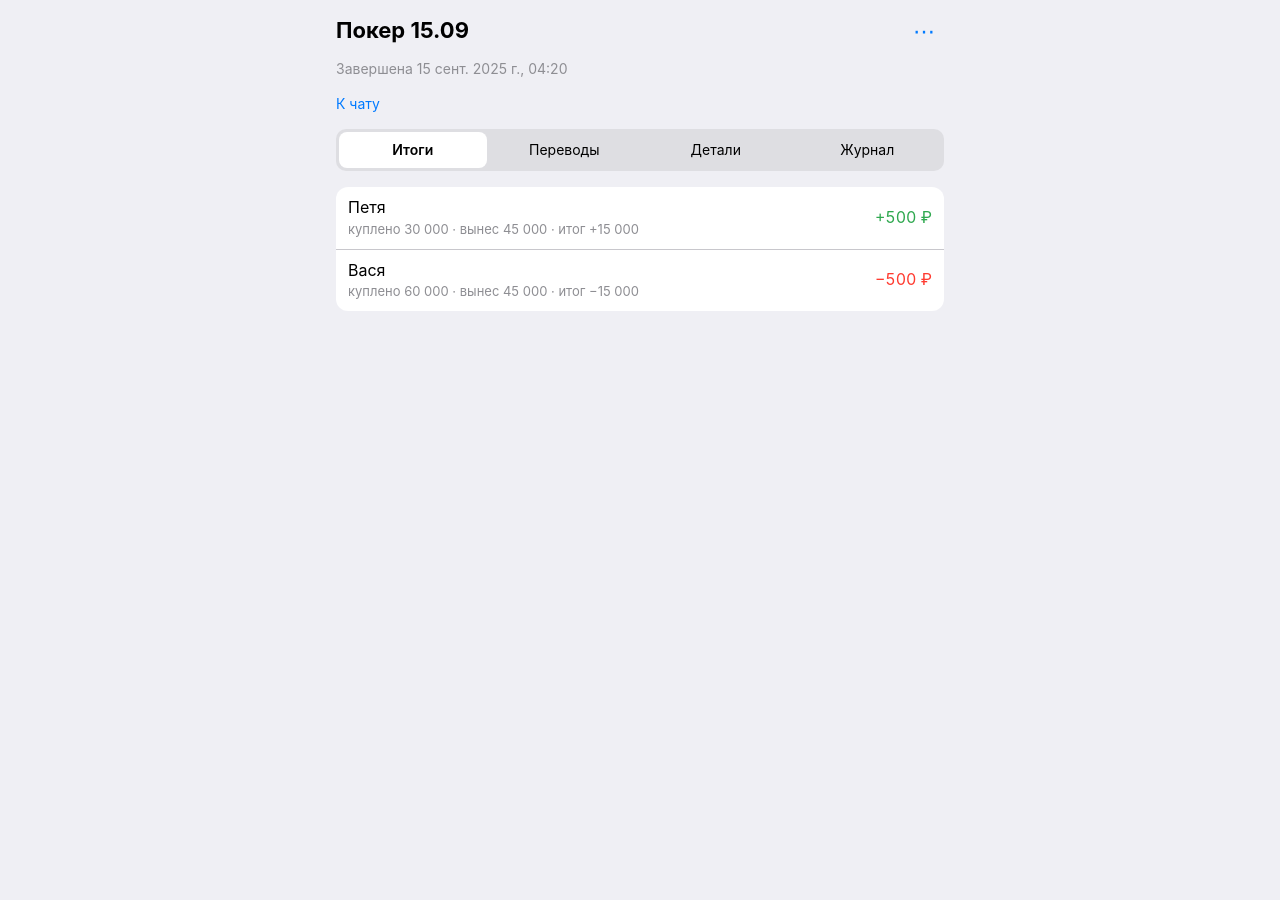
Test: finished game menu › deletes the game and goes to the chat
The image size is (1280, 900).
Step 1. Click the button named "Меню" → (924, 32), box [904, 12, 944, 52]
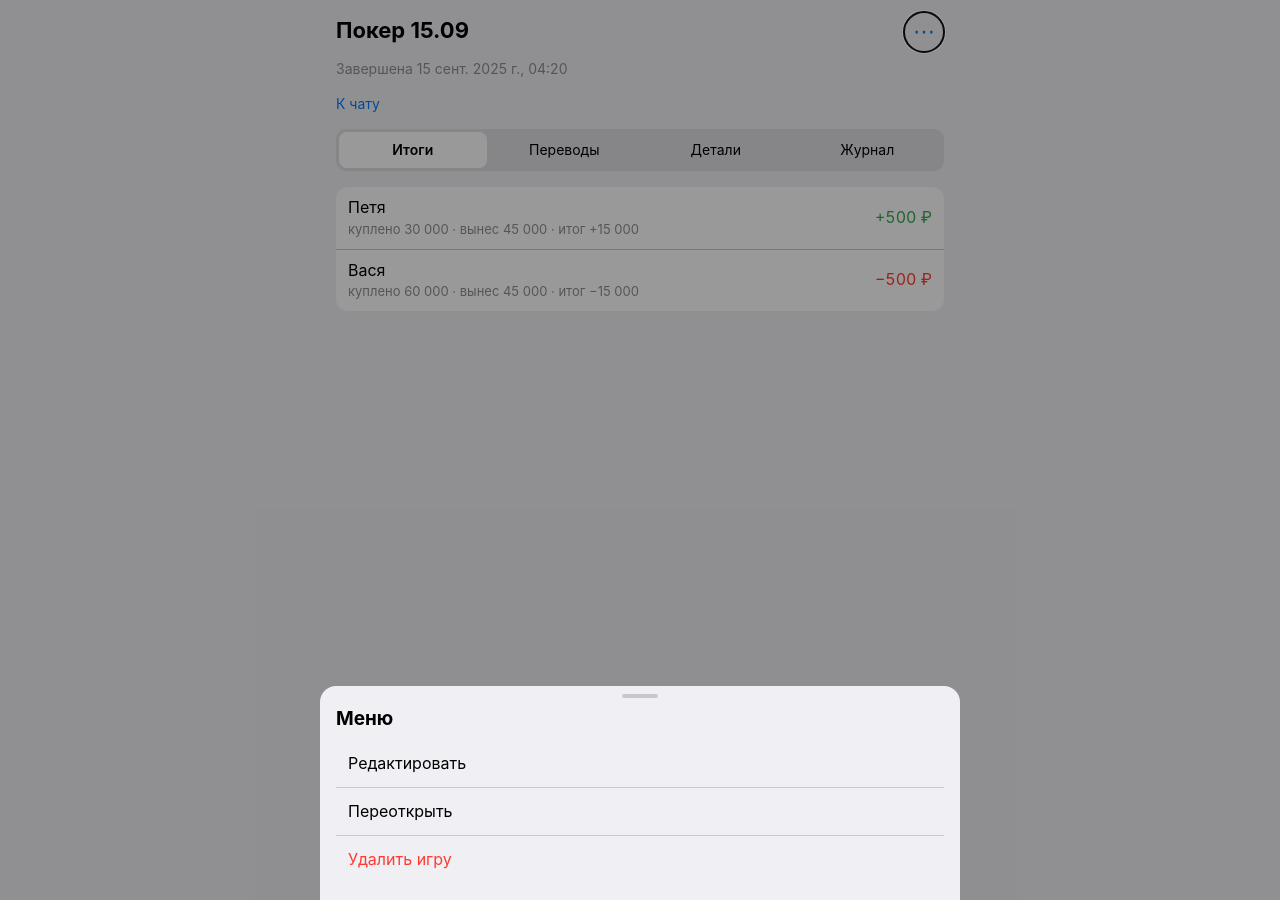
Step 2. Click the button "Удалить игру" → (400, 859), box [336, 836, 944, 884]
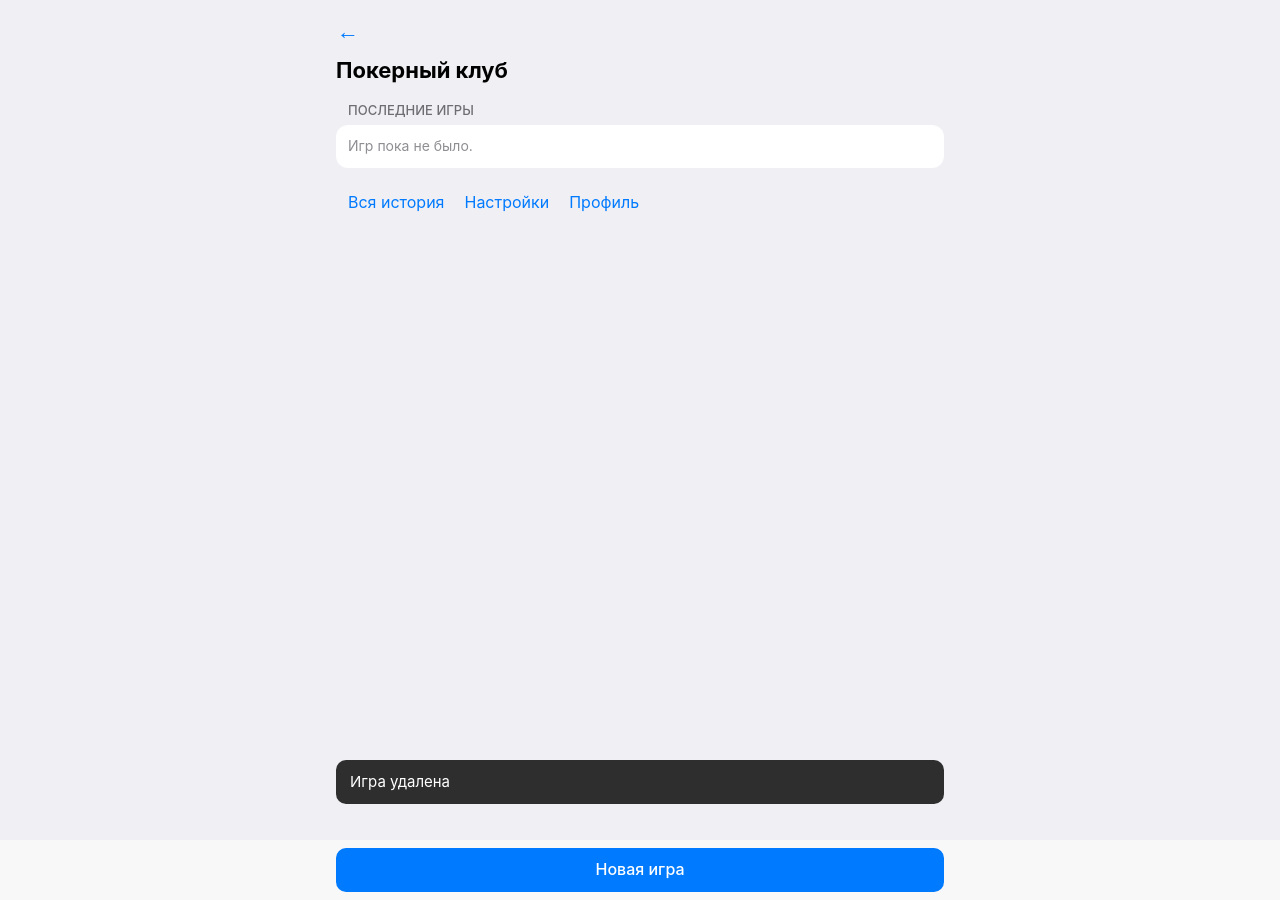
Expected: the heading "Покерный клуб" is shown, [336, 57, 508, 83]
